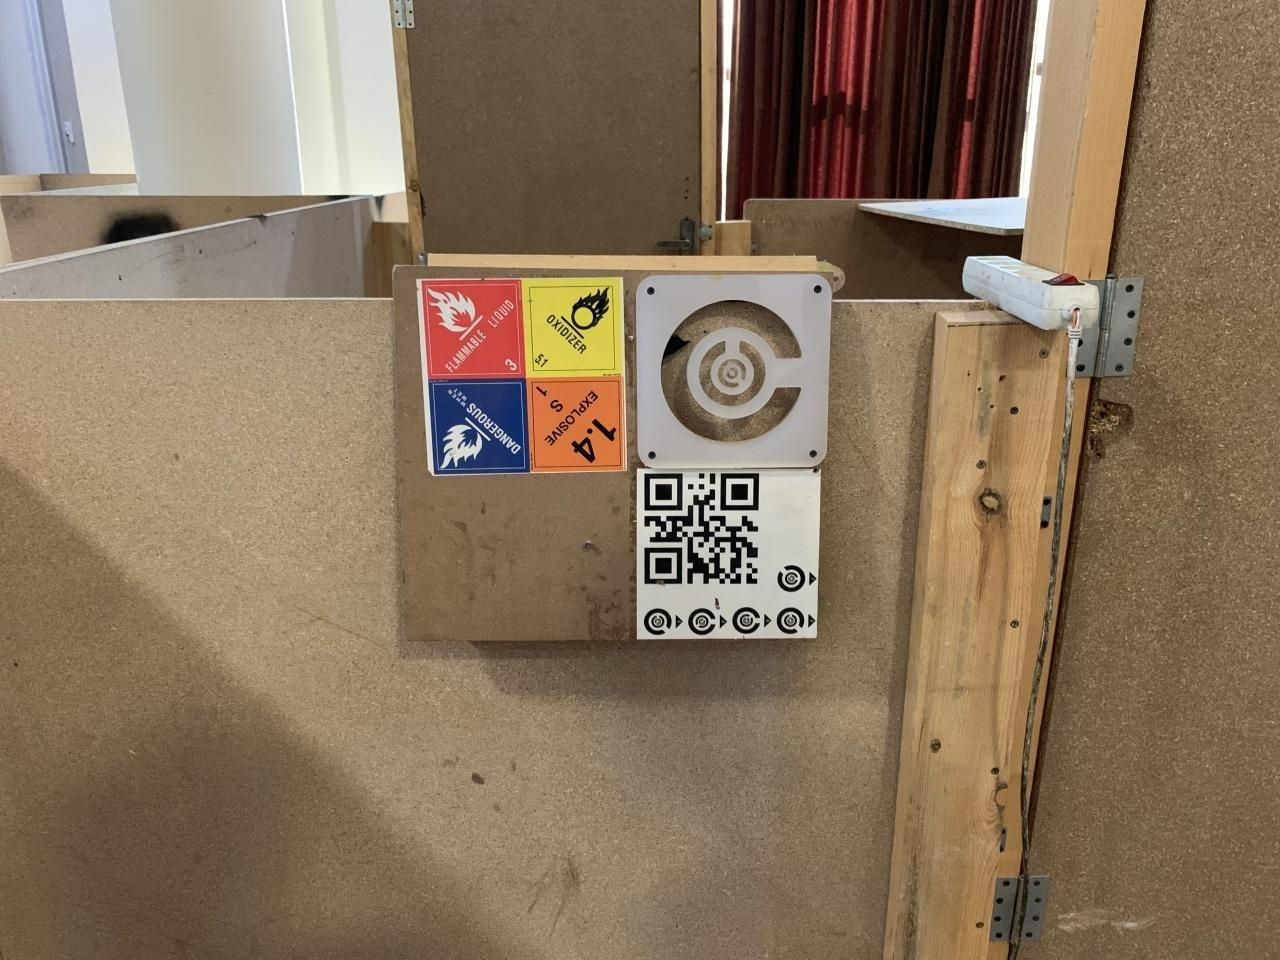dangerous-when-wet: (438, 381, 526, 478)
explosive: (527, 380, 627, 472)
flammable: (418, 280, 527, 379)
oxidizer: (527, 276, 624, 380)
